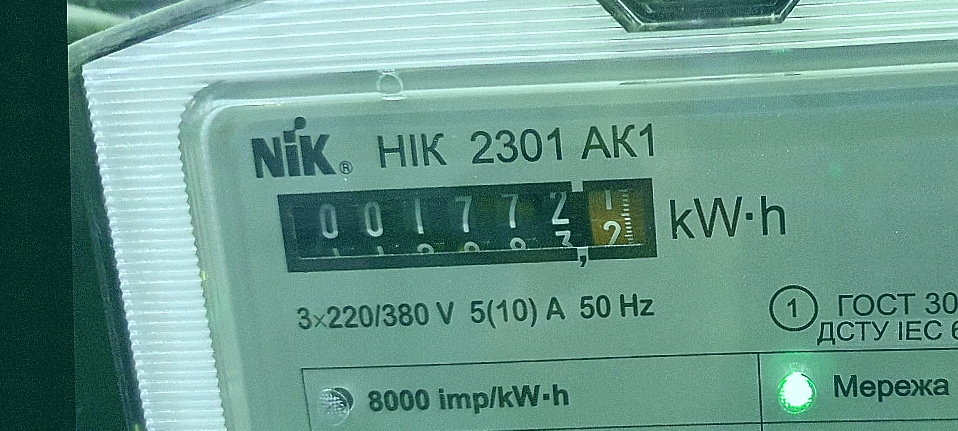0: (313, 198, 341, 239), (360, 197, 384, 237)
1: (409, 195, 426, 234), (600, 187, 614, 212)
2: (546, 189, 570, 226), (598, 217, 622, 246)
3: (552, 227, 574, 248)
7: (452, 192, 475, 234), (498, 190, 520, 229)
screen: (264, 166, 674, 283)
